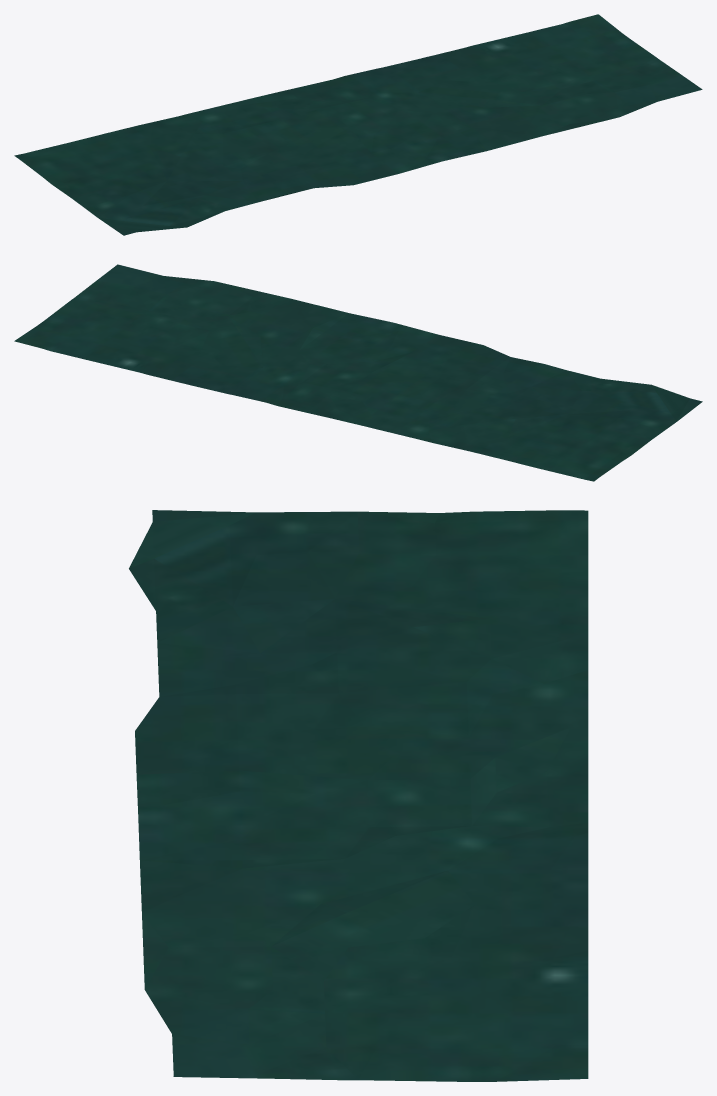
3 views of the same model, one above another, from view 1: azimuth 30°, elevation 25°; view 2: azimuth 150°, elevation 25°; view 3: azimuth 270°, elevation 25° (orthographic). The views are drawn at different scales.
Bounding box in the file's own units: 52.22 × 0.3451 × 17.91.
Materials: 1 (1 with a texture image).
